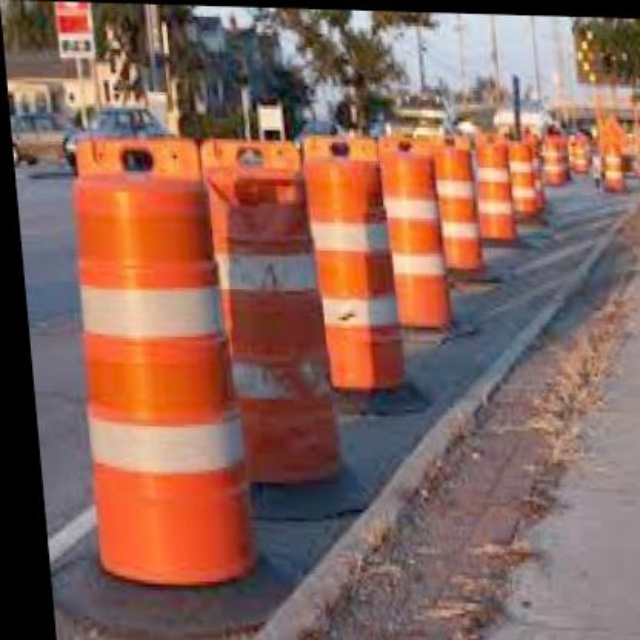obstacle: (53, 137, 254, 589), (214, 120, 345, 493), (293, 125, 400, 393), (380, 124, 454, 335)
